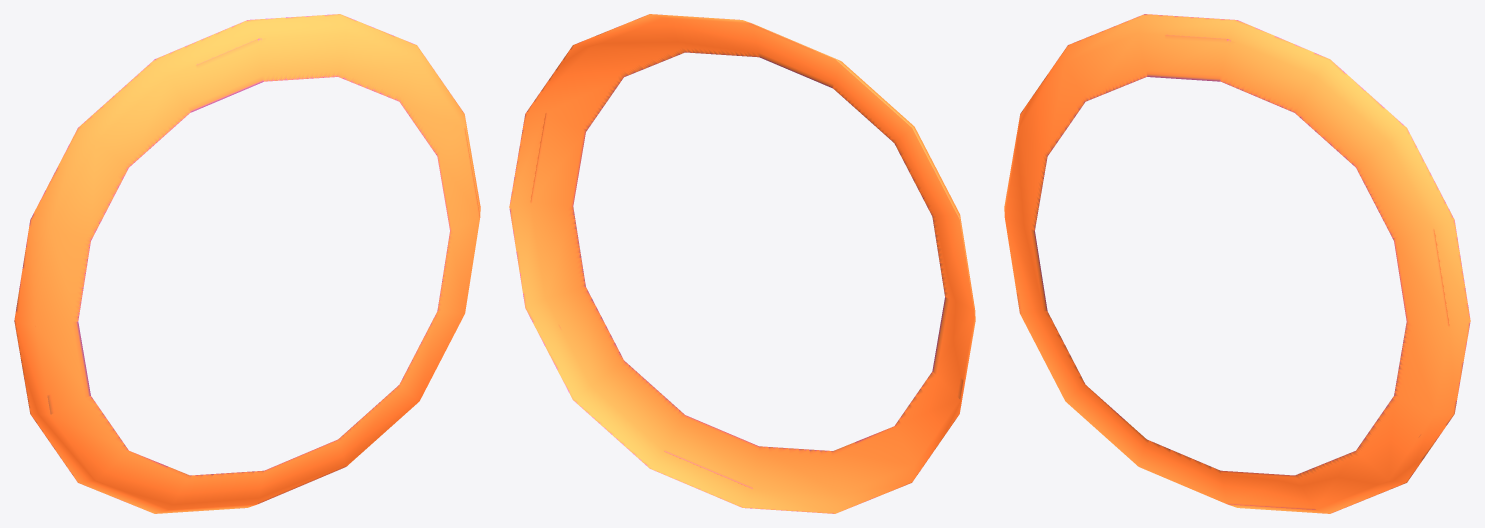
File: obrys1.fbx
The picture shows the model from 3 angles, left to right: view 1: azimuth 30°, elevation 25°; view 2: azimuth 150°, elevation 25°; view 3: azimuth 330°, elevation 25°; orthographic projection.
Parts seen in each view (by area): view 1: obrys2; view 2: obrys2; view 3: obrys2.
Boxes of the visible parts, x1=… form: obrys2: x1=14, y1=14, x2=480, y2=513; obrys2: x1=509, y1=14, x2=975, y2=513; obrys2: x1=1004, y1=14, x2=1470, y2=513.
Size of the model in its own units: 217 by 217 by 13.43.
Materials: 1 (1 with a texture image).
